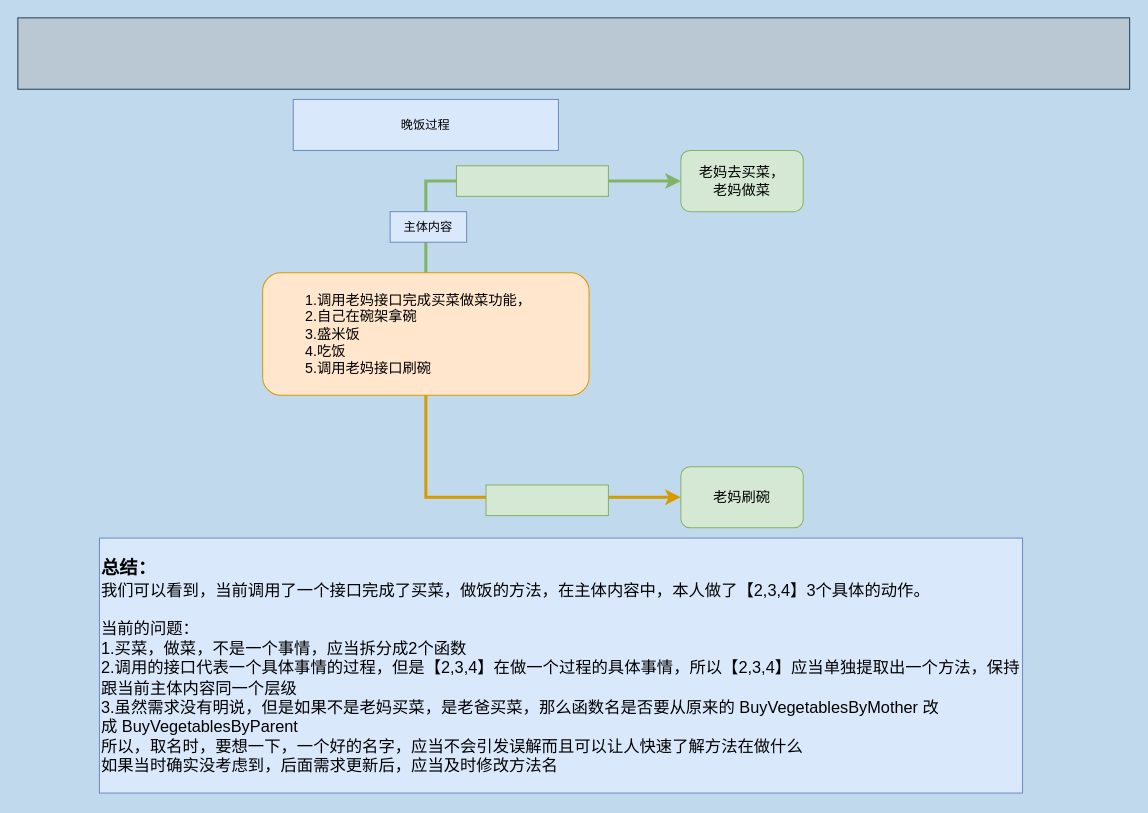
Some shapes in this 1148 by 813 pixel diagram are drawn without their labels. The shapes that lost their labels are listed below. From the top down, each one's centre as x and y in pixels, then its label:
At (x=573, y=53): "方法保持层级一致&起一个好名字".
At (x=531, y=180): "老妈买菜做菜接口".
At (x=546, y=500): "老妈接口".
